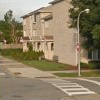crosswalk: (45, 79, 95, 94)
